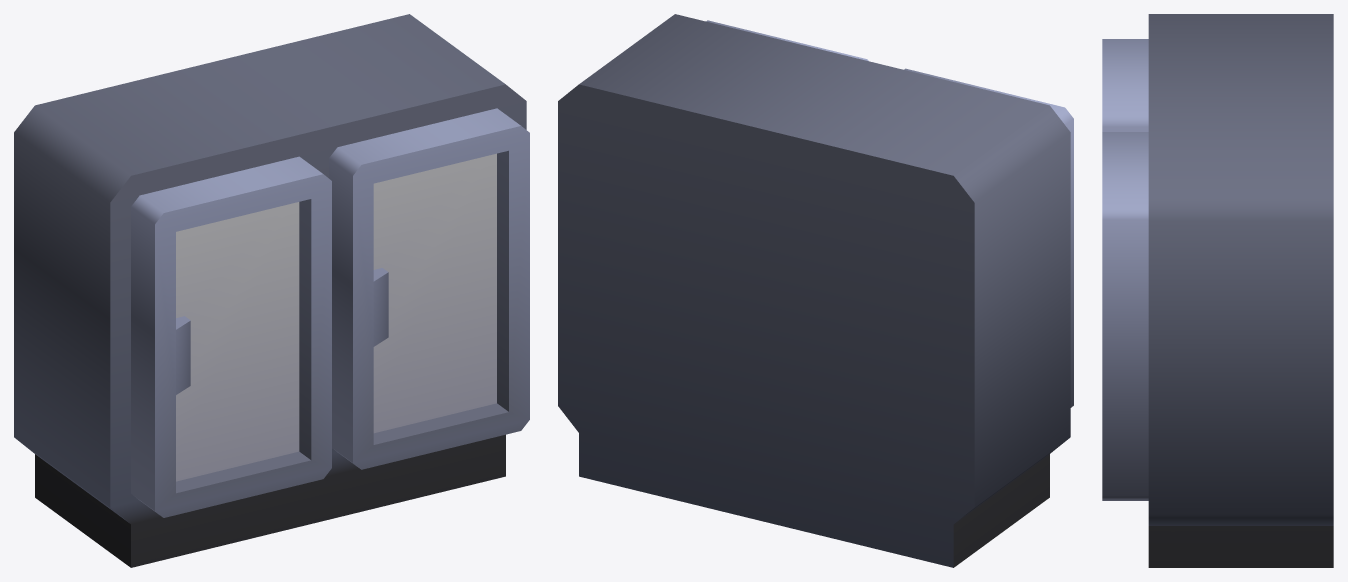
File: freezers-standing.glb
The picture shows the model from 3 angles, left to right: view 1: azimuth 30°, elevation 25°; view 2: azimuth 150°, elevation 25°; view 3: azimuth 270°, elevation 25°; orthographic projection. The views are drawn at different scales.
Parts seen in each view (by area): view 1: freezers-standing; view 2: freezers-standing; view 3: freezers-standing.
Part boxes in pixels (x1,y1,x2,y2): freezers-standing: [14, 14, 529, 567]; freezers-standing: [558, 14, 1073, 567]; freezers-standing: [1102, 14, 1333, 567].
Bounding box in the file's own units: 1 × 0.9 × 0.5.
